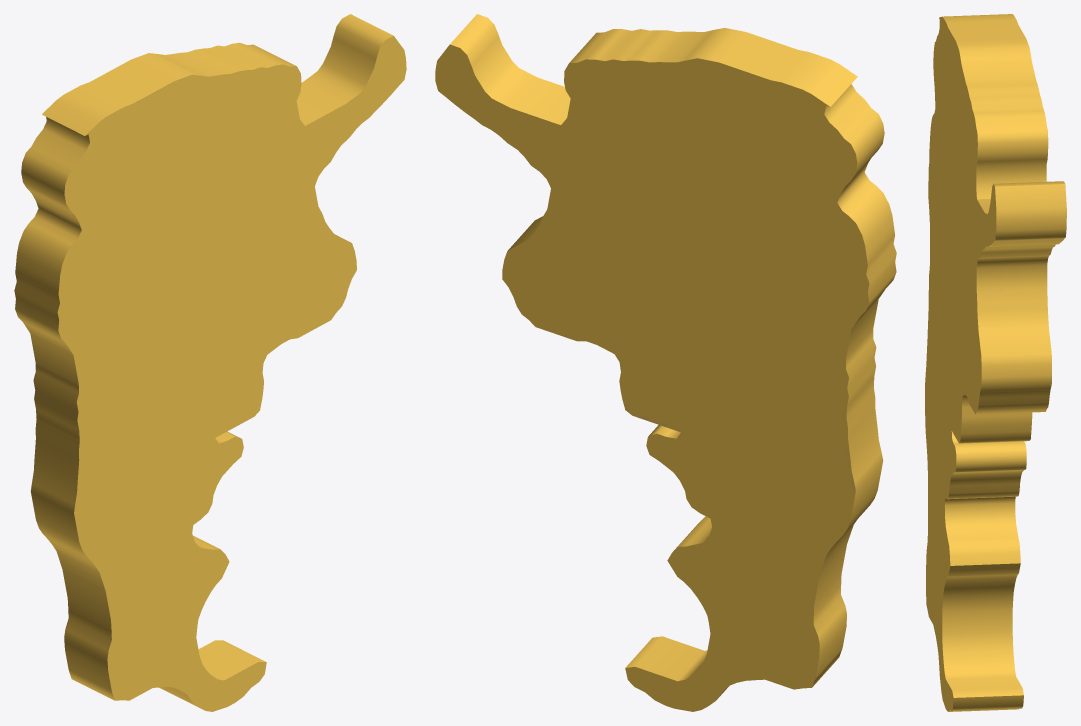
The model's file is mapaArgentivaV2.fbx.
The picture shows the model from 3 angles, left to right: view 1: azimuth 30°, elevation 25°; view 2: azimuth 150°, elevation 25°; view 3: azimuth 270°, elevation 25°; orthographic projection. The views are drawn at different scales.
Parts seen in each view (by area): view 1: root; view 2: root; view 3: root.
Part boxes in pixels (x1,y1,x2,y2): root: (14,14,406,711); root: (435,14,896,711); root: (925,14,1066,711).
Size of the model in its own units: 0.9462 by 1.47 by 0.2926.
Materials: 1 (1 with a texture image).
